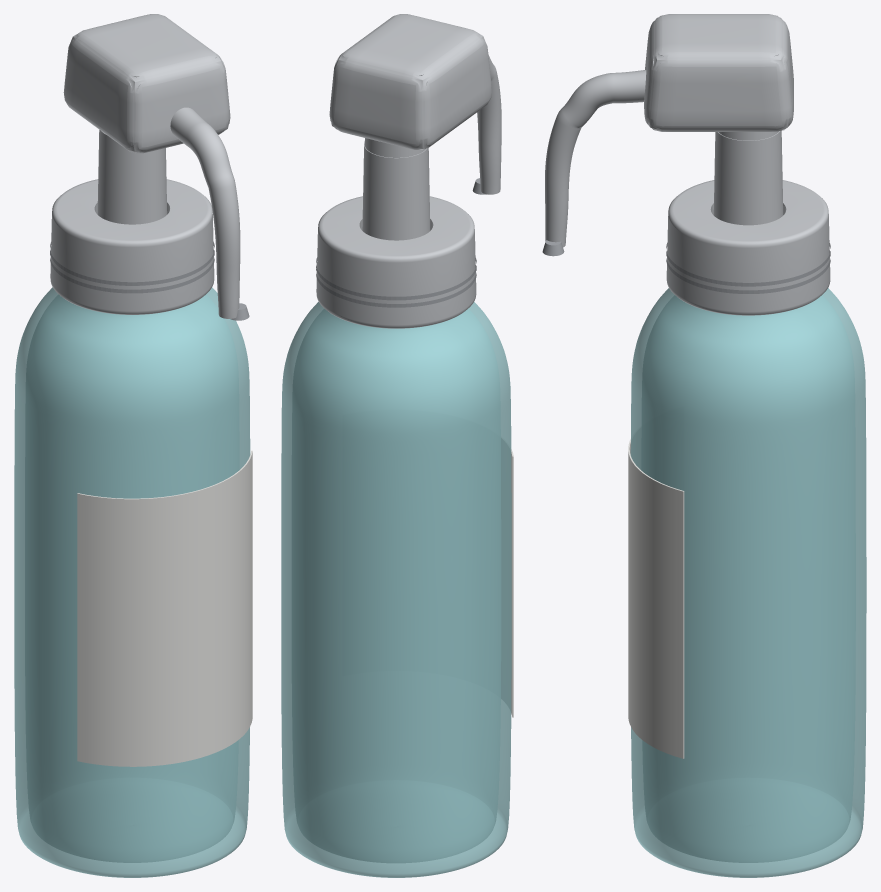
3 views of the same model, side by side, from view 1: azimuth 30°, elevation 25°; view 2: azimuth 150°, elevation 25°; view 3: azimuth 270°, elevation 25° (orthographic). The views are drawn at different scales.
Visible parts, largest first — view 1: BottleBody.001, Label.001, Actuator.001, PumpCollar.001, Nozzle.001, PumpStem.001, CollarRing1.001, CollarRing2.001; view 2: BottleBody.001, Actuator.001, PumpCollar.001, PumpStem.001, Nozzle.001, Label.001, CollarRing2.001, CollarRing1.001, PumpSleeve.001; view 3: BottleBody.001, Actuator.001, PumpCollar.001, Label.001, PumpStem.001, Nozzle.001, CollarRing2.001, CollarRing1.001.
Part boxes in pixels (left/top/right/bottom): BottleBody.001: left=14, top=287, right=250, bottom=877; Label.001: left=77, top=450, right=252, bottom=766; Actuator.001: left=63, top=14, right=230, bottom=153; PumpCollar.001: left=50, top=179, right=214, bottom=314; Nozzle.001: left=170, top=107, right=240, bottom=318; PumpStem.001: left=97, top=130, right=167, bottom=224; CollarRing1.001: left=50, top=250, right=214, bottom=293; CollarRing2.001: left=50, top=242, right=214, bottom=285; BottleBody.001: left=281, top=302, right=511, bottom=877; Actuator.001: left=329, top=14, right=491, bottom=149; PumpCollar.001: left=316, top=196, right=476, bottom=328; PumpStem.001: left=362, top=142, right=430, bottom=240; Nozzle.001: left=477, top=55, right=501, bottom=194; Label.001: left=511, top=449, right=513, bottom=717; CollarRing2.001: left=316, top=257, right=476, bottom=300; CollarRing1.001: left=316, top=265, right=476, bottom=307; PumpSleeve.001: left=364, top=138, right=425, bottom=157; BottleBody.001: left=630, top=288, right=866, bottom=877; Actuator.001: left=644, top=14, right=793, bottom=131; PumpCollar.001: left=666, top=180, right=830, bottom=315; Label.001: left=628, top=439, right=684, bottom=758; PumpStem.001: left=713, top=131, right=783, bottom=225; Nozzle.001: left=545, top=70, right=646, bottom=247; CollarRing2.001: left=666, top=242, right=830, bottom=286; CollarRing1.001: left=666, top=250, right=830, bottom=293.
Bounding box in the file's own units: 0.04 × 0.1499 × 0.0549.
